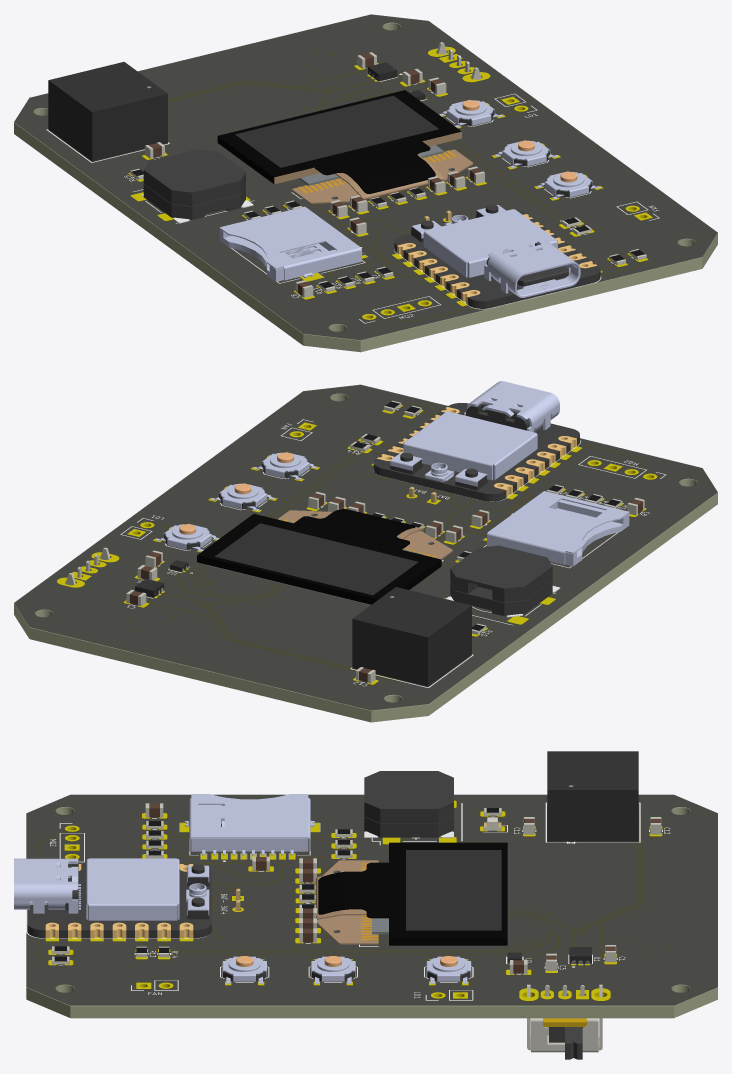
File: kutsu-board-esp32c5-devkitc-test.glb
The picture shows the model from 3 angles, top to bottom: view 1: azimuth 30°, elevation 25°; view 2: azimuth 150°, elevation 25°; view 3: azimuth 270°, elevation 25°; orthographic projection. The views are drawn at different scales.
Parts seen in each view (by area): view 1: =>[0:1:1:33], =>[0:1:1:31], =>[0:1:1:11], =>[0:1:1:17], =>[0:1:1:13], =>[0:1:1:23], =>[0:1:1:19], =>[0:1:1:28], =>[0:1:1:9] (×3), =>[0:1:1:29]; view 2: =>[0:1:1:33], =>[0:1:1:31], =>[0:1:1:11], =>[0:1:1:17], =>[0:1:1:13], =>[0:1:1:23], =>[0:1:1:19], =>[0:1:1:28], =>[0:1:1:9] (×3), =>[0:1:1:29]; view 3: =>[0:1:1:33], =>[0:1:1:31], =>[0:1:1:11], =>[0:1:1:17], =>[0:1:1:13], =>[0:1:1:23], =>[0:1:1:19], =>[0:1:1:28], =>[0:1:1:9] (×3), =>[0:1:1:25], =>[0:1:1:29].
Part boxes in pixels (box(x1,y1,x2,y2)): =>[0:1:1:33]: box(14, 15, 717, 352); =>[0:1:1:31]: box(14, 14, 717, 340); =>[0:1:1:11]: box(217, 90, 473, 203); =>[0:1:1:17]: box(394, 204, 600, 308); =>[0:1:1:13]: box(48, 62, 167, 161); =>[0:1:1:23]: box(219, 206, 361, 281); =>[0:1:1:19]: box(142, 149, 253, 223); =>[0:1:1:28]: box(128, 47, 652, 321); =>[0:1:1:9] (×3): box(439, 100, 600, 199); =>[0:1:1:29]: box(46, 61, 659, 323); =>[0:1:1:33]: box(14, 385, 717, 722); =>[0:1:1:31]: box(14, 384, 717, 710); =>[0:1:1:11]: box(197, 508, 452, 605); =>[0:1:1:17]: box(373, 381, 579, 501); =>[0:1:1:13]: box(352, 587, 471, 686); =>[0:1:1:23]: box(487, 491, 629, 566); =>[0:1:1:19]: box(446, 545, 560, 617); =>[0:1:1:28]: box(57, 404, 657, 685); =>[0:1:1:9] (×3): box(155, 452, 317, 551); =>[0:1:1:29]: box(120, 408, 666, 687); =>[0:1:1:33]: box(26, 795, 717, 1018); =>[0:1:1:31]: box(26, 794, 717, 1005); =>[0:1:1:11]: box(315, 842, 507, 945); =>[0:1:1:17]: box(14, 858, 211, 938); =>[0:1:1:13]: box(547, 751, 638, 841); =>[0:1:1:23]: box(185, 794, 314, 855); =>[0:1:1:19]: box(364, 771, 453, 837); =>[0:1:1:28]: box(39, 800, 670, 1001); =>[0:1:1:9] (×3): box(222, 956, 471, 983); =>[0:1:1:25]: box(527, 984, 602, 1059); =>[0:1:1:29]: box(26, 802, 670, 1000).
Size of the model in its own units: 0.06 by 0.0142 by 0.08.
